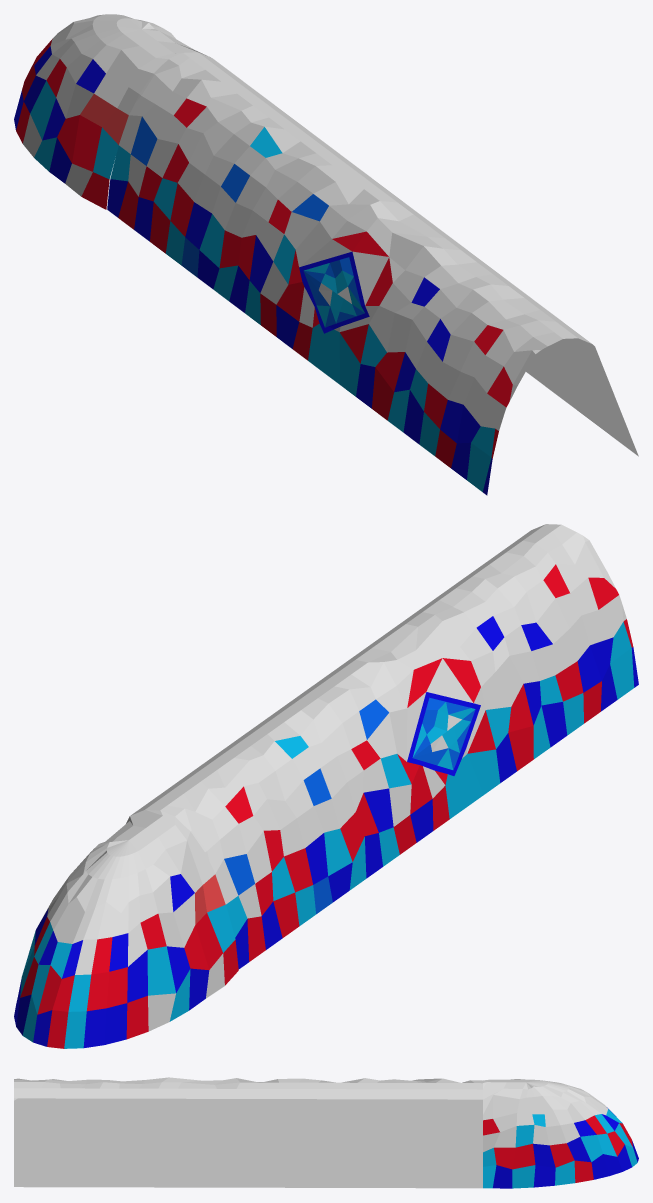
File: ParteAlargadaContraria.fbx
3 renders of one model, top to bottom at view 1: azimuth 30°, elevation 25°; view 2: azimuth 150°, elevation 25°; view 3: azimuth 270°, elevation 25°, orthographic. The views are drawn at different scales.
Visible parts, largest first — view 1: ParteAlargadaBaja3.002; view 2: ParteAlargadaBaja3.002; view 3: ParteAlargadaBaja3.002.
Part boxes in pixels (box(x1,y1,x2,y2)): ParteAlargadaBaja3.002: box(14, 14, 638, 495); ParteAlargadaBaja3.002: box(14, 524, 638, 1048); ParteAlargadaBaja3.002: box(14, 1077, 638, 1188).
Bounding box in the file's own units: 97.15 × 82.26 × 547.
